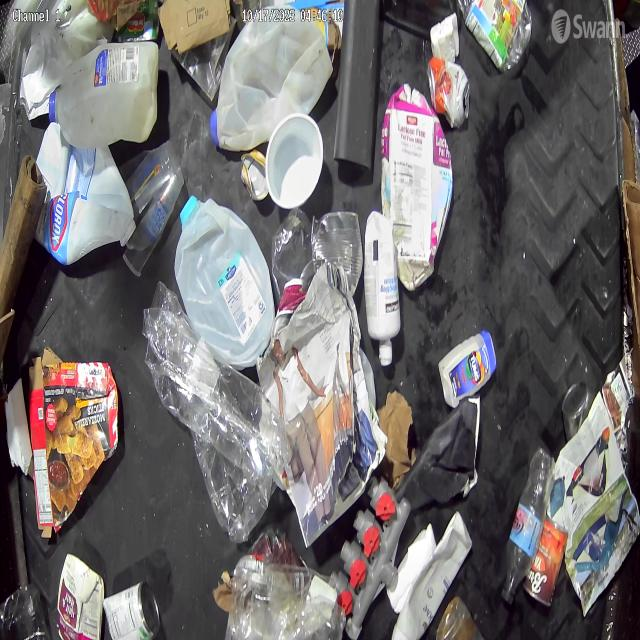can: (310, 210, 364, 296), (102, 581, 161, 640), (426, 56, 472, 130), (562, 382, 591, 443)
milk_jug: (174, 192, 275, 369), (212, 16, 331, 146), (36, 140, 134, 267), (49, 42, 160, 148)
non_white_jug: (383, 82, 453, 284)
plastic_bottle: (503, 449, 554, 604)
